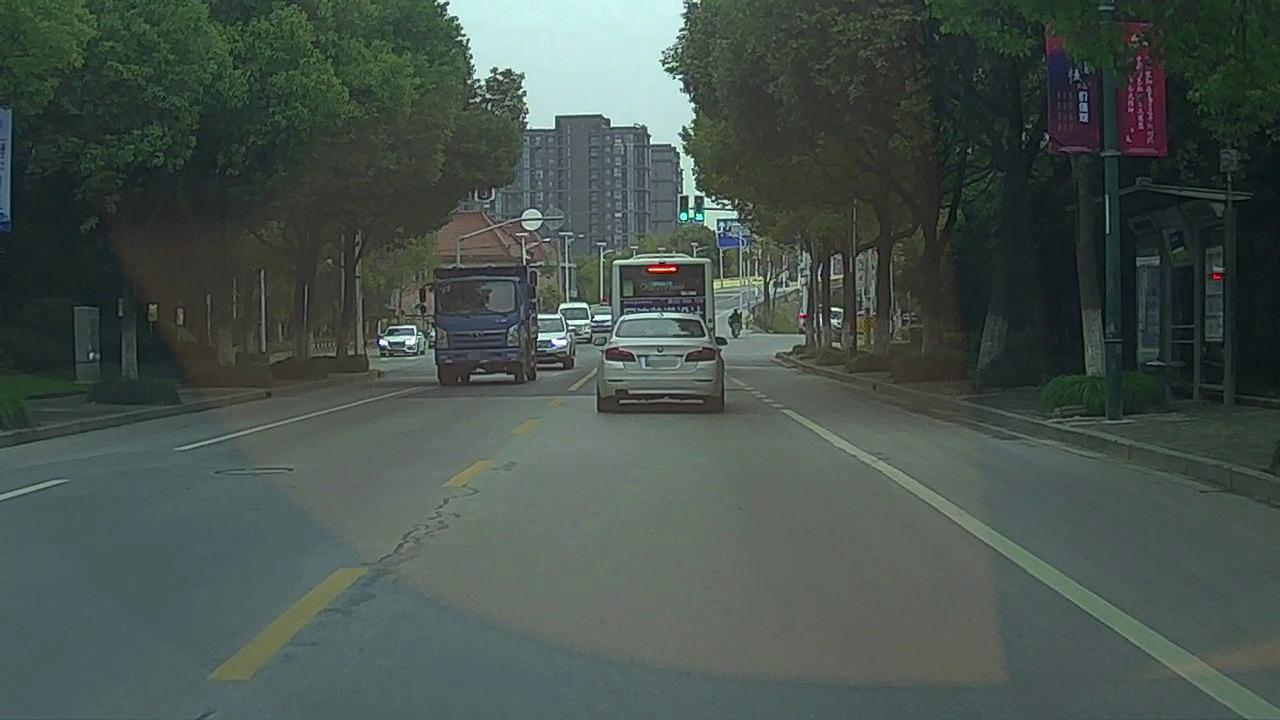traffic_light: (693, 195, 704, 222), (677, 194, 688, 220)
